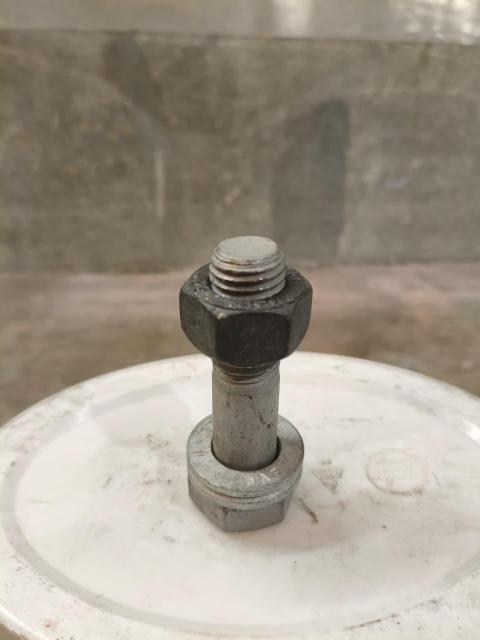Metal: (180, 235, 314, 529)
